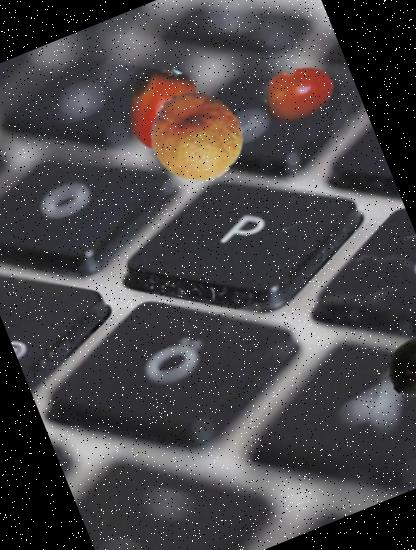Kaki: (105, 54, 213, 162), (255, 48, 346, 140)
Mandarine: (136, 76, 256, 196)
Plum: (376, 326, 416, 409)
